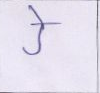e_matra: (28, 5, 45, 22)
